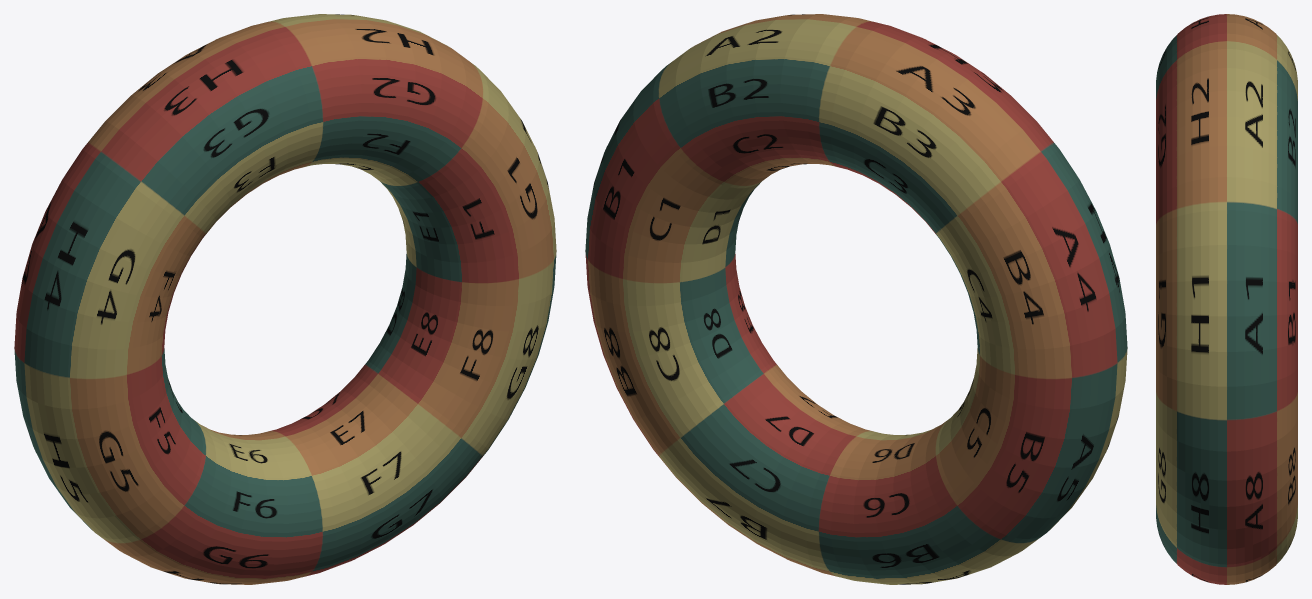
The model's file is texture_torus_R17_r19.glb.
3 views of the same model, side by side, from view 1: azimuth 30°, elevation 25°; view 2: azimuth 150°, elevation 25°; view 3: azimuth 270°, elevation 25° (orthographic). The views are drawn at different scales.
Visible parts, largest first — view 1: world; view 2: world; view 3: world.
Boxes of the visible parts, x1,y1,x2,y2 form: world: [14, 14, 556, 584]; world: [585, 14, 1127, 584]; world: [1156, 14, 1297, 584].
Size of the model in its own units: 28.4 by 28.34 by 7.05.
1 material, 1 textured.
